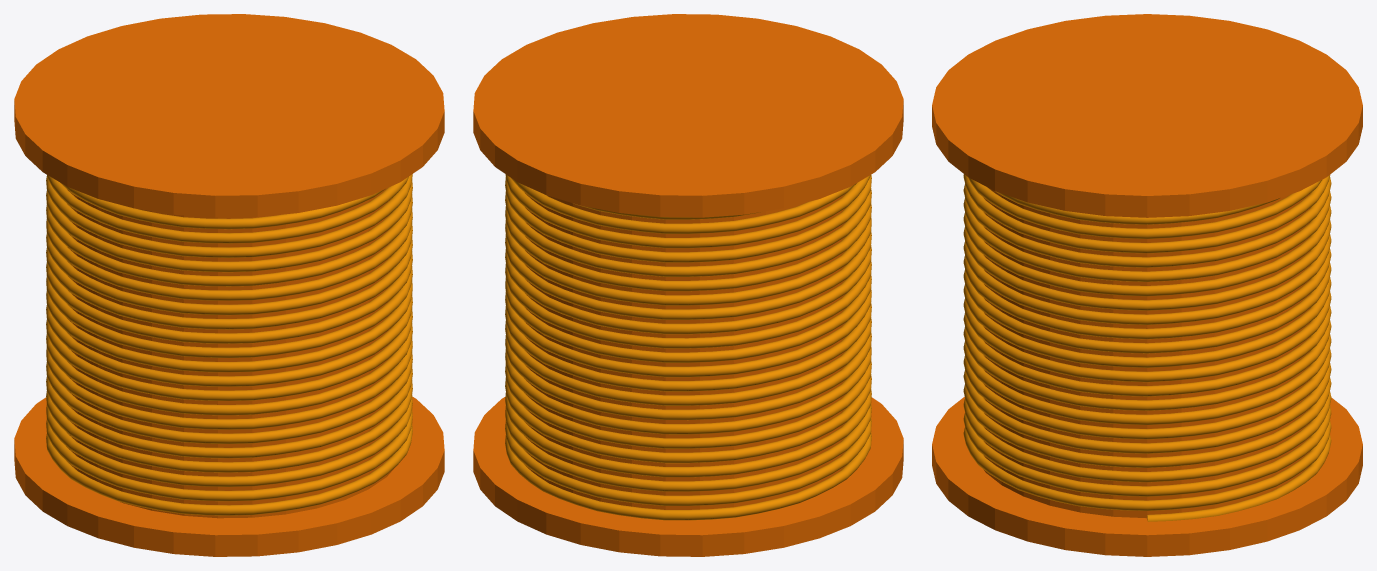
File: CopperWireSpool.fbx
3 views of the same model, side by side, from view 1: azimuth 30°, elevation 25°; view 2: azimuth 150°, elevation 25°; view 3: azimuth 270°, elevation 25° (orthographic).
Visible parts, largest first — view 1: WireSpoolWire, WireSpoolTop, WireSpoolBody, WireSpoolBottom; view 2: WireSpoolWire, WireSpoolTop, WireSpoolBody, WireSpoolBottom; view 3: WireSpoolWire, WireSpoolTop, WireSpoolBody, WireSpoolBottom.
Part boxes in pixels (x1,y1,x2,y2): WireSpoolWire: [46, 174, 412, 515]; WireSpoolTop: [14, 14, 444, 217]; WireSpoolBody: [66, 188, 395, 518]; WireSpoolBottom: [14, 396, 444, 556]; WireSpoolWire: [505, 174, 871, 520]; WireSpoolTop: [473, 14, 903, 217]; WireSpoolBody: [524, 193, 847, 509]; WireSpoolBottom: [473, 397, 903, 556]; WireSpoolWire: [963, 174, 1331, 521]; WireSpoolTop: [932, 14, 1362, 217]; WireSpoolBody: [983, 187, 1310, 518]; WireSpoolBottom: [932, 397, 1362, 556].
Bounding box in the file's own units: 2.46 × 2.27 × 2.46.
